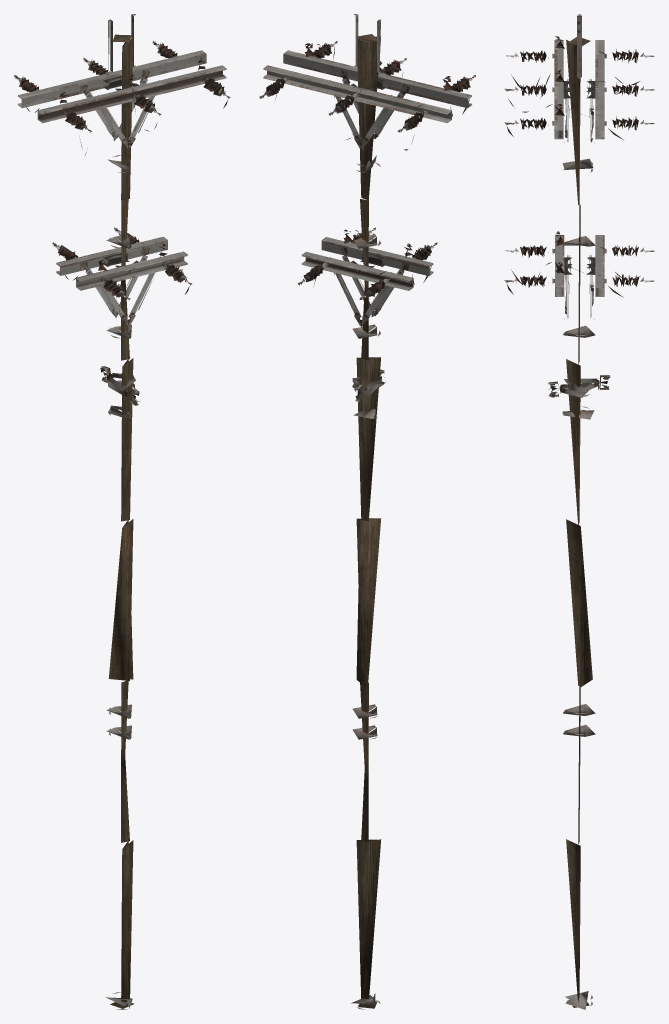
File: ph_power_pole_02.fbx
3 renders of one model, left to right at view 1: azimuth 30°, elevation 25°; view 2: azimuth 150°, elevation 25°; view 3: azimuth 270°, elevation 25°, orthographic.
Parts seen in each view (by area): view 1: ph_power_pole_02_LOD0; view 2: ph_power_pole_02_LOD0; view 3: ph_power_pole_02_LOD0.
Boxes of the visible parts, x1,y1,x2,y2 form: ph_power_pole_02_LOD0: [14, 14, 230, 1009]; ph_power_pole_02_LOD0: [259, 14, 475, 1009]; ph_power_pole_02_LOD0: [504, 14, 654, 1009].
Size of what is drawn, in the model's own units: 1.2 by 6.13 by 0.8522.
